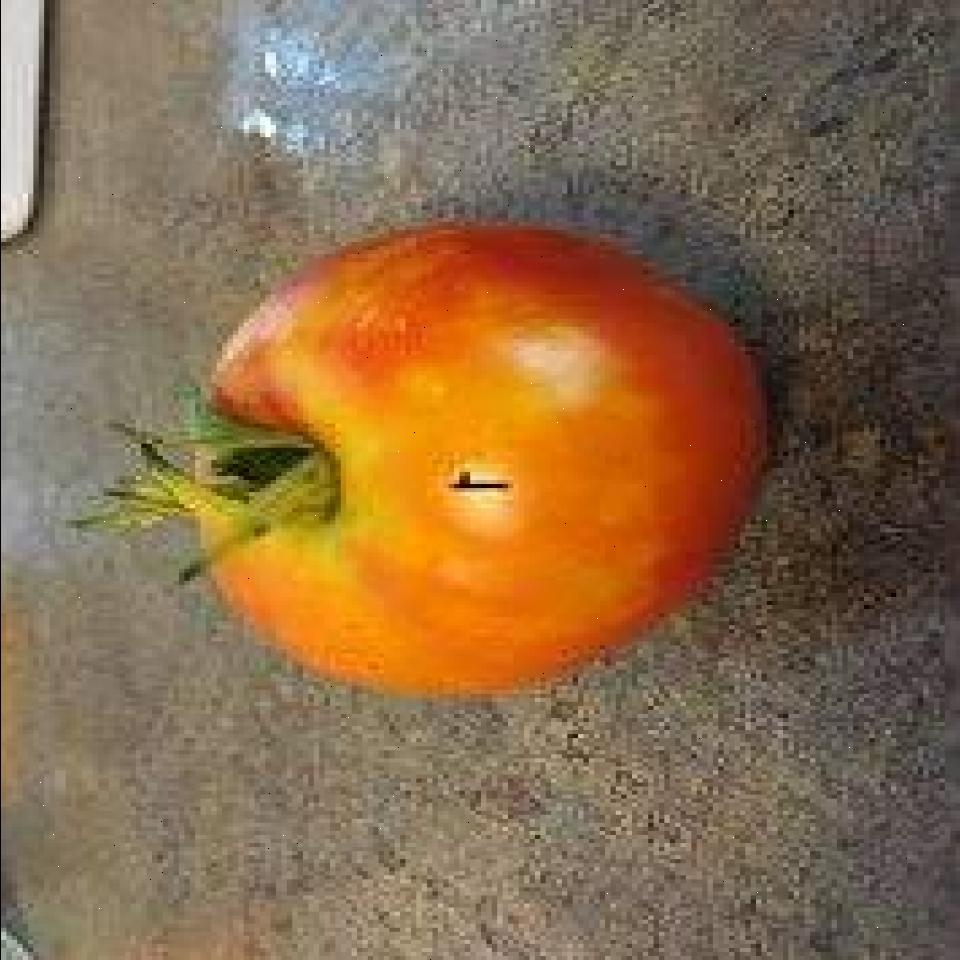Spotted wilt Virus: (193, 224, 775, 696)
